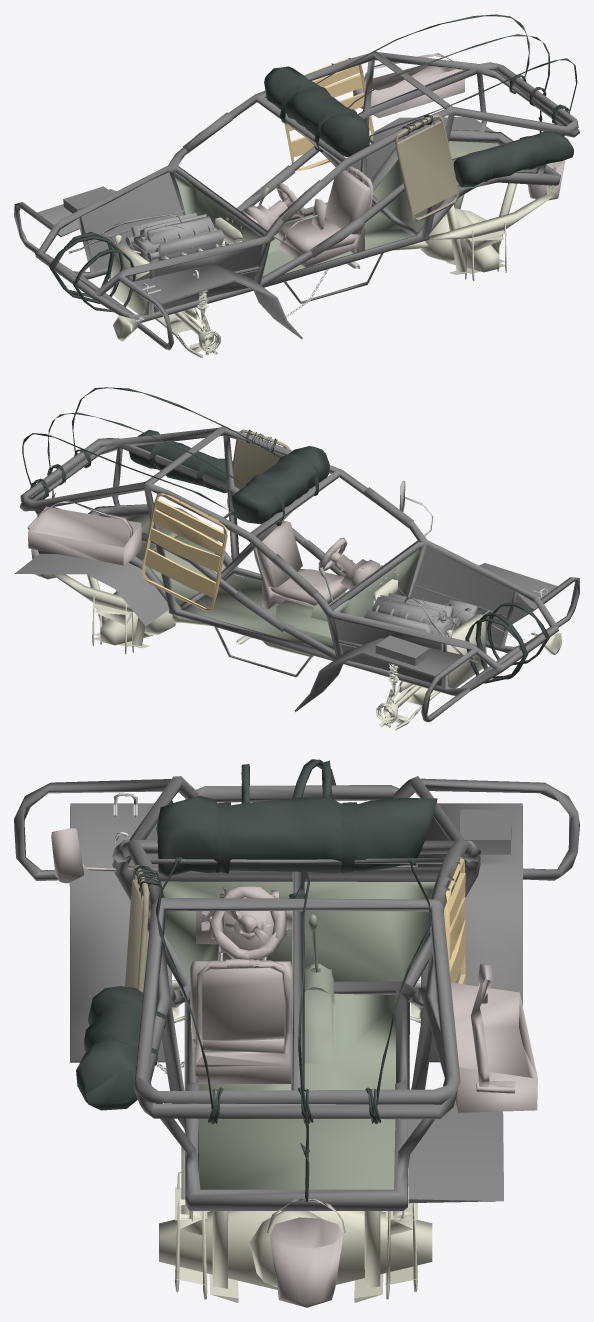
The model's file is buggyNT.glb.
The picture shows the model from 3 angles, top to bottom: view 1: azimuth 30°, elevation 25°; view 2: azimuth 150°, elevation 25°; view 3: azimuth 270°, elevation 25°; orthographic projection. The views are drawn at different scales.
Parts seen in each view (by area): view 1: body_high, Circle.033, BodyF1_low.002, staing_low.001, Plane.018, p_low, NurbsPath.008, Plane.001, Cylinder.002, Plane.009; view 2: body_high, BodyF1_low.002, staing_low.001, Circle.033, p_low, Plane.009, Plane.018, Plane.001, Cylinder.002, NurbsPath.008; view 3: body_high, p_low, staing_low.001, BodyF1_low.002, Circle.033, Plane.018, Plane.009, NurbsPath.008.
Part boxes in pixels (x1,y1,x2,y2): body_high: [14, 51, 579, 350]; Circle.033: [49, 14, 577, 312]; BodyF1_low.002: [37, 117, 493, 339]; staing_low.001: [226, 53, 565, 267]; Plane.018: [110, 143, 556, 314]; p_low: [173, 141, 535, 275]; NurbsPath.008: [395, 114, 458, 221]; Plane.001: [68, 209, 241, 316]; Cylinder.002: [109, 217, 328, 358]; Plane.009: [284, 58, 374, 170]; body_high: [20, 426, 579, 722]; BodyF1_low.002: [14, 546, 557, 711]; staing_low.001: [27, 481, 433, 608]; Circle.033: [22, 387, 549, 683]; p_low: [109, 515, 419, 650]; Plane.009: [142, 493, 227, 611]; Plane.018: [52, 574, 485, 688]; Plane.001: [364, 588, 527, 662]; Cylinder.002: [373, 579, 561, 730]; NurbsPath.008: [227, 429, 290, 507]; body_high: [14, 776, 579, 1210]; p_low: [142, 881, 456, 1189]; staing_low.001: [51, 827, 537, 1307]; BodyF1_low.002: [69, 793, 522, 1203]; Circle.033: [76, 759, 437, 1202]; Plane.018: [159, 929, 432, 1302]; Plane.009: [444, 858, 465, 984]; NurbsPath.008: [125, 865, 149, 992].
Size of what is drawn, in the model's own units: 4.36 by 1.72 by 2.31.
